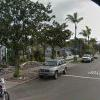Car: (34, 55, 75, 81)
